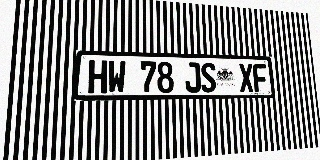7: (140, 61, 157, 93)
8: (157, 62, 174, 93)
F: (252, 64, 268, 92)
H: (88, 60, 107, 93)
J: (184, 62, 201, 93)
S: (200, 62, 217, 92)
W: (107, 60, 126, 93)
X: (238, 63, 254, 92)
